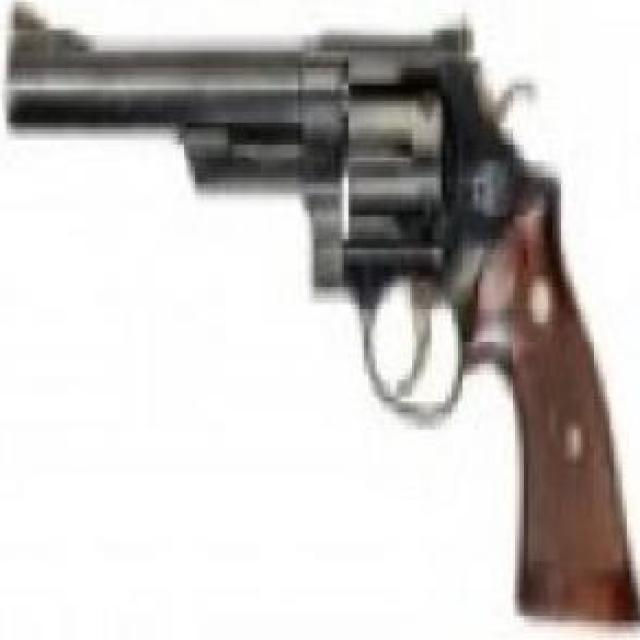pistol: (2, 9, 640, 622)
